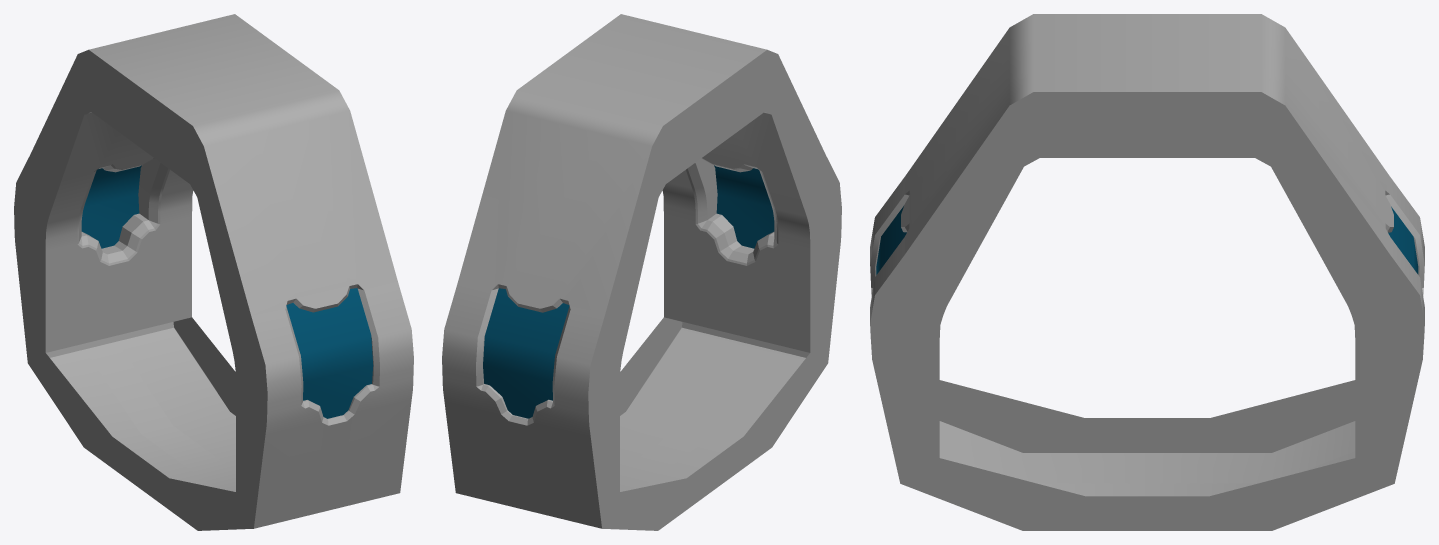
The model's file is tunnelEnclosedB.fbx.
3 renders of one model, left to right at view 1: azimuth 30°, elevation 25°; view 2: azimuth 150°, elevation 25°; view 3: azimuth 270°, elevation 25°, orthographic. The views are drawn at different scales.
Visible parts, largest first — view 1: tunnelEnclosedB; view 2: tunnelEnclosedB; view 3: tunnelEnclosedB.
Boxes of the visible parts, left/top/right/bottom form: tunnelEnclosedB: left=14, top=14, right=413, bottom=530; tunnelEnclosedB: left=442, top=14, right=841, bottom=530; tunnelEnclosedB: left=870, top=14, right=1424, bottom=530.
Size of the model in its own units: 300 by 786 by 901.
